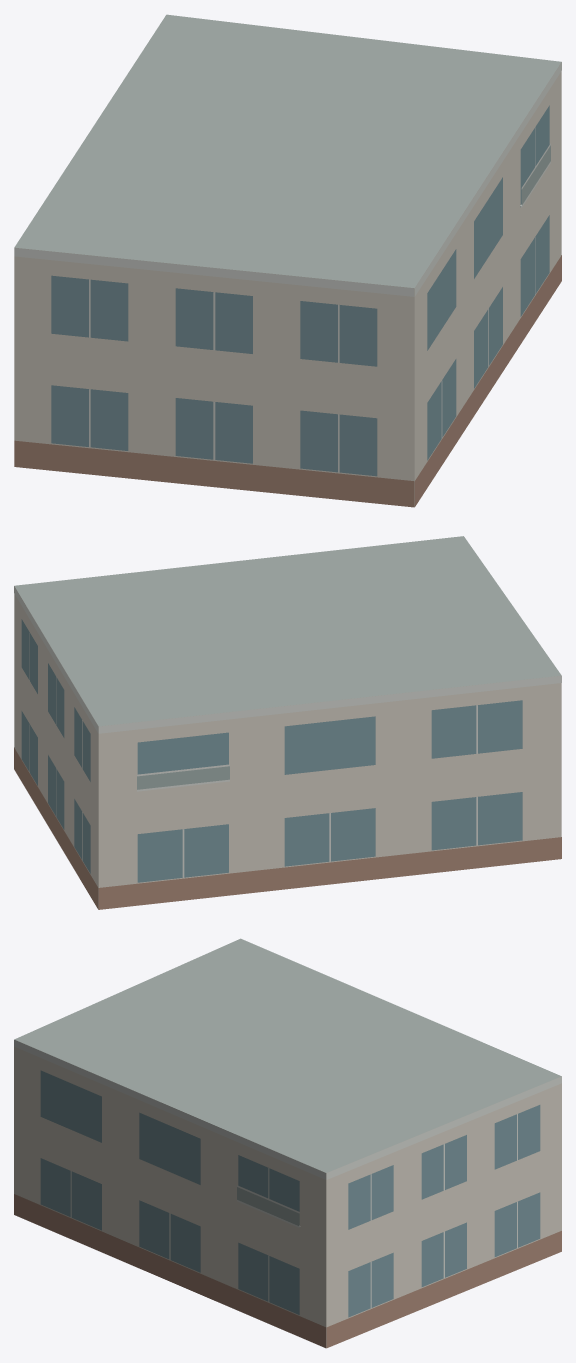
File: survey-upis-32831243.glb
The picture shows the model from 3 angles, top to bottom: view 1: azimuth 30°, elevation 25°; view 2: azimuth 150°, elevation 25°; view 3: azimuth 270°, elevation 25°; orthographic projection. The views are drawn at different scales.
Parts seen in each view (by area): view 1: survey-upis-32831243.tmp; view 2: survey-upis-32831243.tmp; view 3: survey-upis-32831243.tmp.
Part boxes in pixels (x1,y1,x2,y2): survey-upis-32831243.tmp: (14,14,561,507); survey-upis-32831243.tmp: (14,536,561,909); survey-upis-32831243.tmp: (14,938,561,1348).
Bounding box in the file's own units: 17.51 × 6.1 × 17.28.
